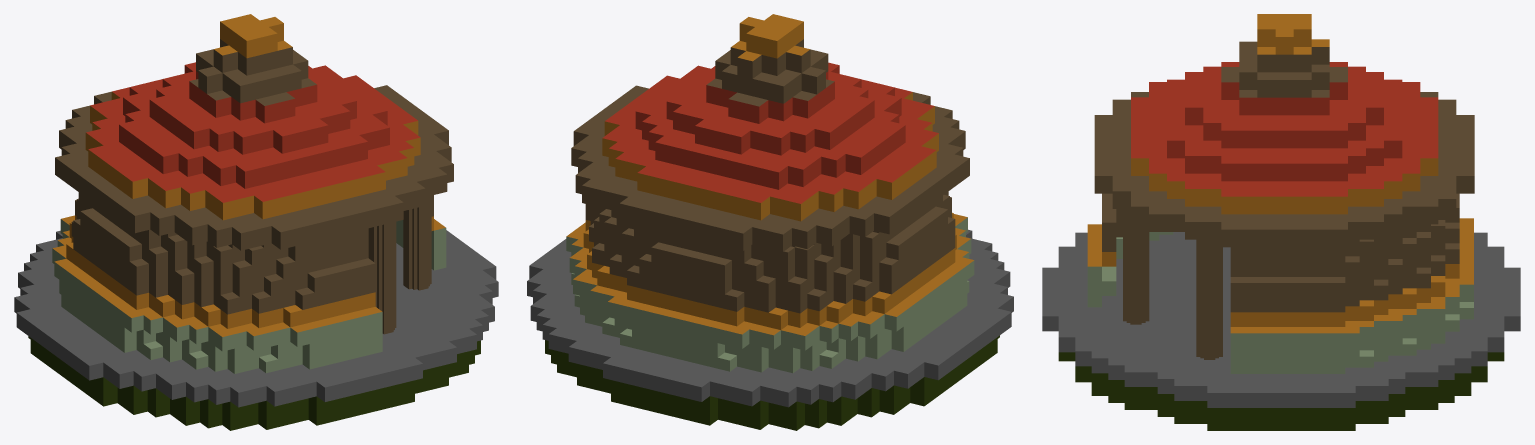
Rendered from главное здание.fbx.
3 renders of one model, left to right at view 1: azimuth 30°, elevation 25°; view 2: azimuth 150°, elevation 25°; view 3: azimuth 270°, elevation 25°, orthographic.
Parts seen in each view (by area): view 1: Cylinder; view 2: Cylinder; view 3: Cylinder.
Boxes of the visible parts, <box> form: Cylinder: <box>14,14,498,430</box>; Cylinder: <box>527,14,1013,430</box>; Cylinder: <box>1042,14,1520,430</box>.
Bounding box in the file's own units: 200 × 144 × 200.
